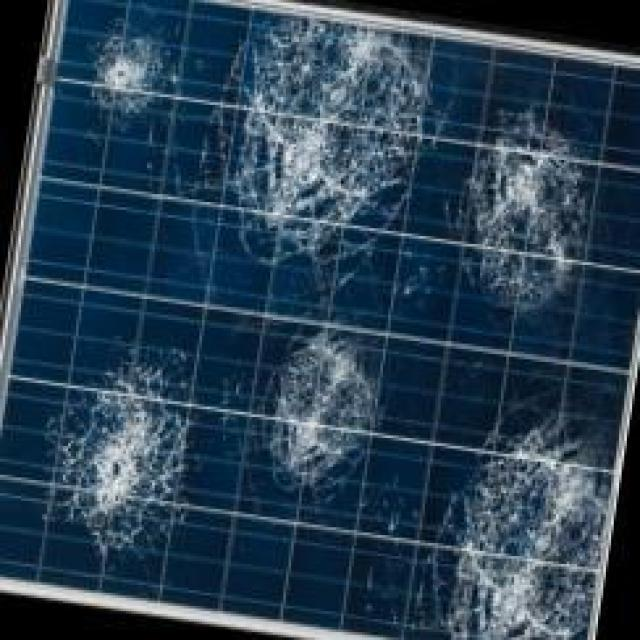Anomaly Solar Panel: (0, 0, 640, 639)
Structural Damage: (166, 0, 461, 306), (422, 410, 596, 638), (34, 350, 201, 565), (229, 314, 401, 519), (451, 115, 584, 306), (79, 16, 179, 120)
